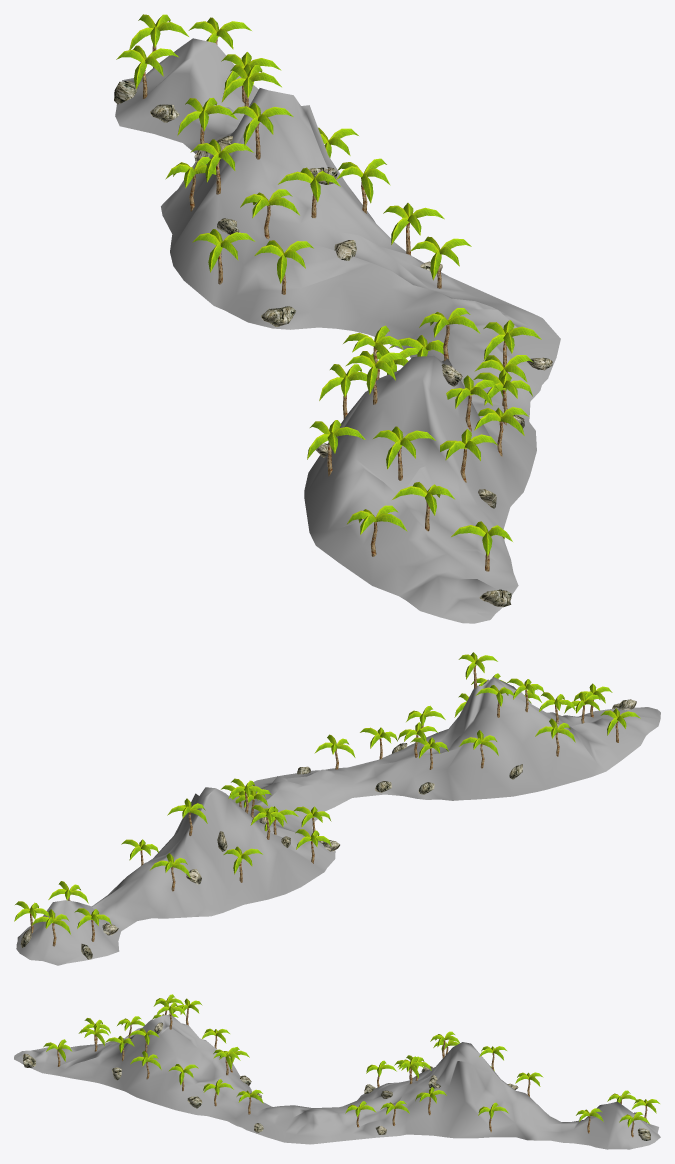
File: island_15.fbx
3 renders of one model, top to bottom at view 1: azimuth 30°, elevation 25°; view 2: azimuth 150°, elevation 25°; view 3: azimuth 270°, elevation 25°, orthographic. The views are drawn at different scales.
Parts seen in each view (by area): view 1: island_15; view 2: island_15; view 3: island_15.
Boxes of the visible parts, x1,y1,x2,y2 form: island_15: (114, 14, 560, 623); island_15: (14, 652, 660, 965); island_15: (14, 994, 660, 1149).
Size of the model in its own units: 57.97 by 21.88 by 149.
